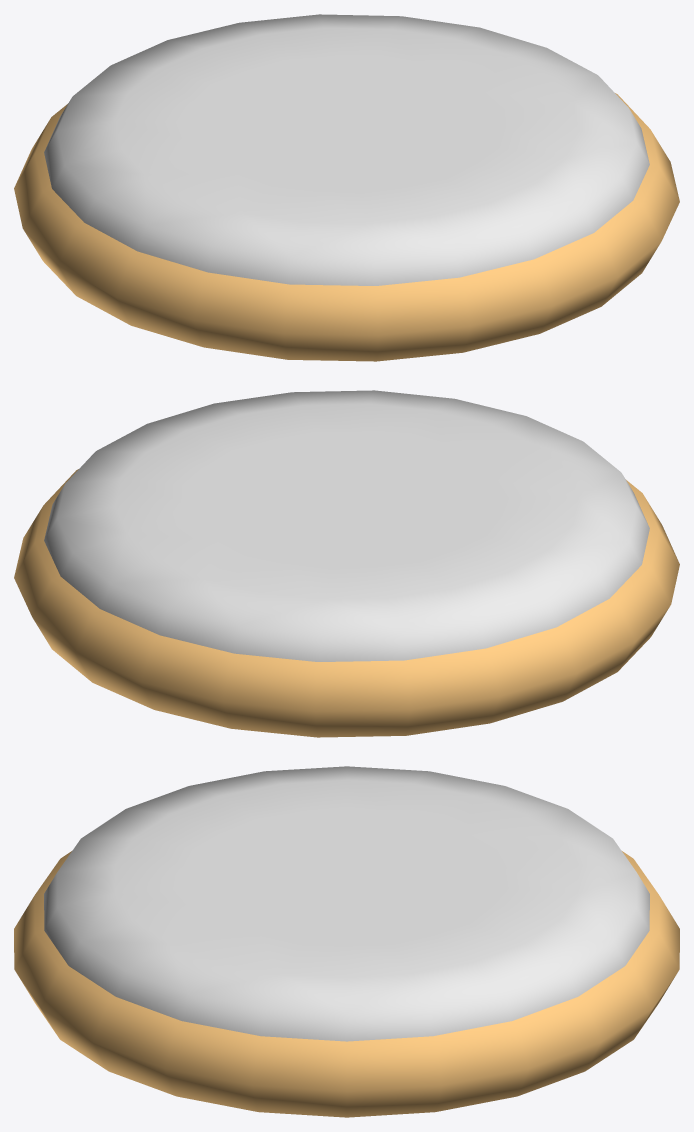
The model's file is Defenseplane.fbx.
The picture shows the model from 3 angles, top to bottom: view 1: azimuth 30°, elevation 25°; view 2: azimuth 150°, elevation 25°; view 3: azimuth 270°, elevation 25°; orthographic projection.
Visible parts, largest first — view 1: Defensebutton, Defensbutton border; view 2: Defensebutton, Defensbutton border; view 3: Defensebutton, Defensbutton border.
Part boxes in pixels (box(x1,y1,x2,y2)): Defensebutton: box(44, 14, 649, 285); Defensbutton border: box(14, 93, 679, 361); Defensebutton: box(44, 390, 649, 661); Defensbutton border: box(14, 469, 679, 737); Defensebutton: box(44, 766, 649, 1041); Defensbutton border: box(14, 851, 679, 1117).
Size of the model in its own units: 174 by 33.34 by 172.
